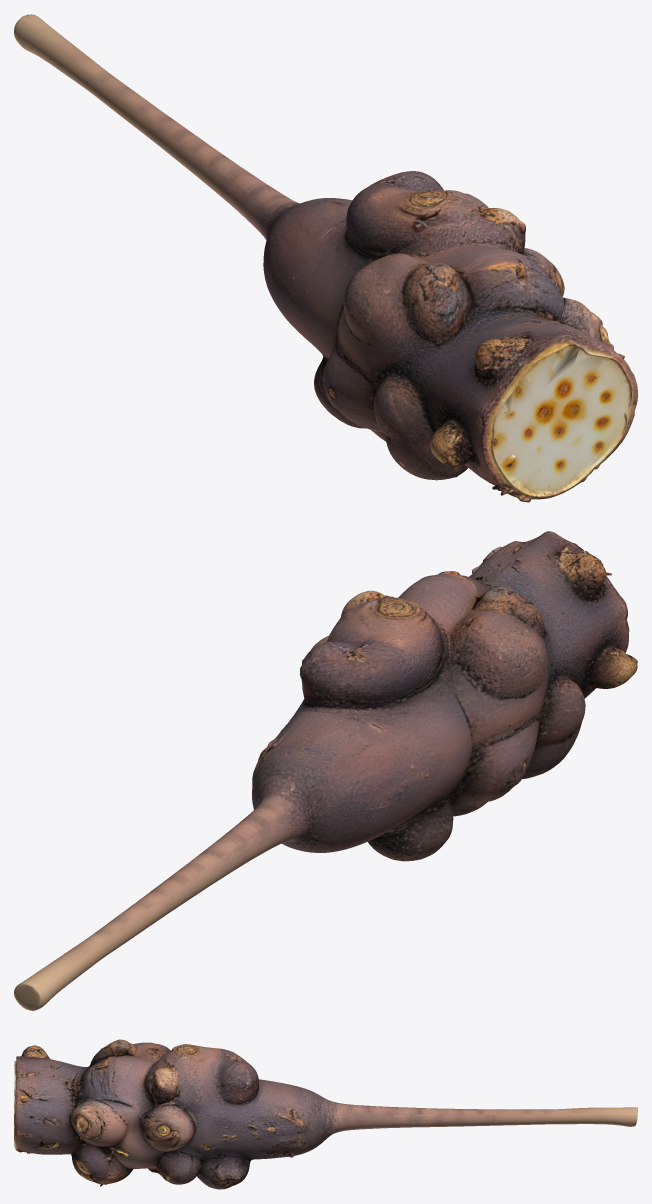
Rendered from cangzhu.glb.
3 renders of one model, top to bottom at view 1: azimuth 30°, elevation 25°; view 2: azimuth 150°, elevation 25°; view 3: azimuth 270°, elevation 25°, orthographic. The views are drawn at different scales.
Parts seen in each view (by area): view 1: node_0; view 2: node_0; view 3: node_0.
Boxes of the visible parts, bbox=[...] form: node_0: bbox=[14, 14, 637, 502]; node_0: bbox=[14, 531, 637, 1010]; node_0: bbox=[14, 1039, 637, 1189].
Size of the model in its own units: 0.2891 by 0.2839 by 1.19.
1 material, 1 textured.
